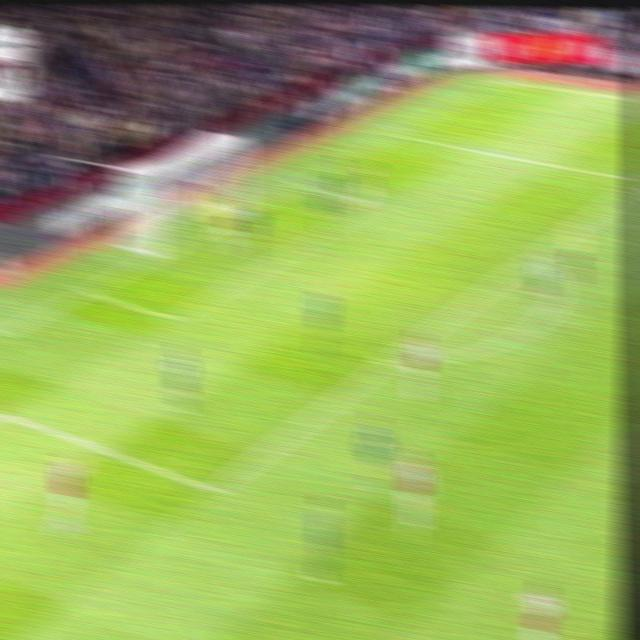bigarea_bottom_inner: (197, 472, 231, 504)
bigarea_top_outter: (385, 123, 410, 141)
bottom_arc_area_intersection: (374, 351, 400, 372)
corner: (486, 71, 518, 87)
smallarea_bottom_inner: (157, 303, 187, 331)
smallarea_bottom_outter: (74, 279, 102, 301)
smallarea_top_inner: (362, 192, 388, 211)
smallarea_top_outter: (286, 174, 311, 194)
top_arc_area_intersection: (528, 244, 552, 262)
